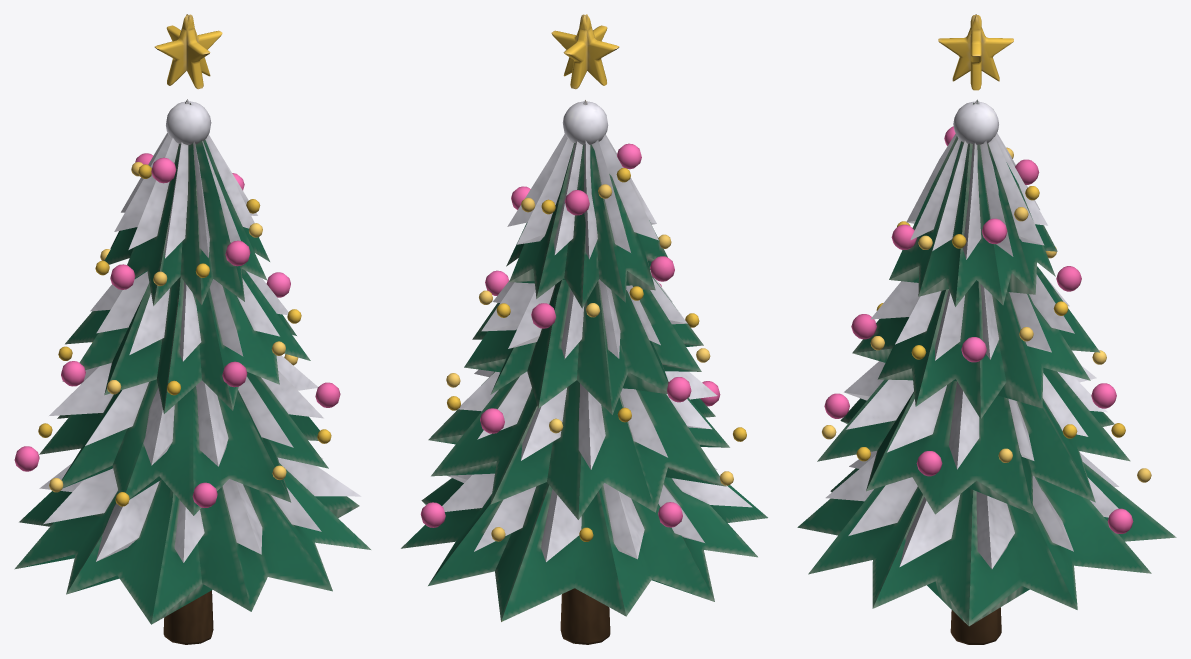
File: sf_christmas_tree.fbx
The picture shows the model from 3 angles, left to right: view 1: azimuth 30°, elevation 25°; view 2: azimuth 150°, elevation 25°; view 3: azimuth 270°, elevation 25°; orthographic projection.
Visible parts, largest first — view 1: sf_christmas_tree; view 2: sf_christmas_tree; view 3: sf_christmas_tree.
Boxes of the visible parts, left/top/right/bottom form: sf_christmas_tree: left=14, top=14, right=370, bottom=644; sf_christmas_tree: left=401, top=14, right=767, bottom=644; sf_christmas_tree: left=797, top=14, right=1176, bottom=644.
Bounding box in the file's own units: 4.02 × 7.47 × 4.14.
6 materials, 6 textured.
